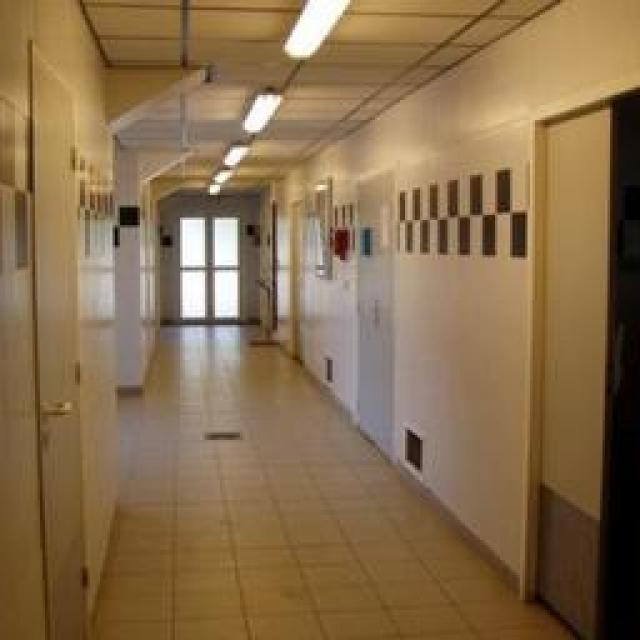2011: (180, 218, 238, 318)
ceiling beam: (78, 0, 558, 195)
door bars: (520, 85, 638, 638), (28, 38, 85, 635), (352, 168, 392, 460), (112, 135, 138, 472)
door_: (290, 202, 302, 360)
fire alarm: (332, 225, 348, 260)
floor -X: (90, 322, 582, 638)
light fixture: (280, 0, 348, 55), (240, 90, 280, 132), (222, 145, 250, 168), (212, 170, 230, 182), (205, 182, 218, 190)
wall clock: (255, 0, 638, 638), (2, 0, 160, 638)
